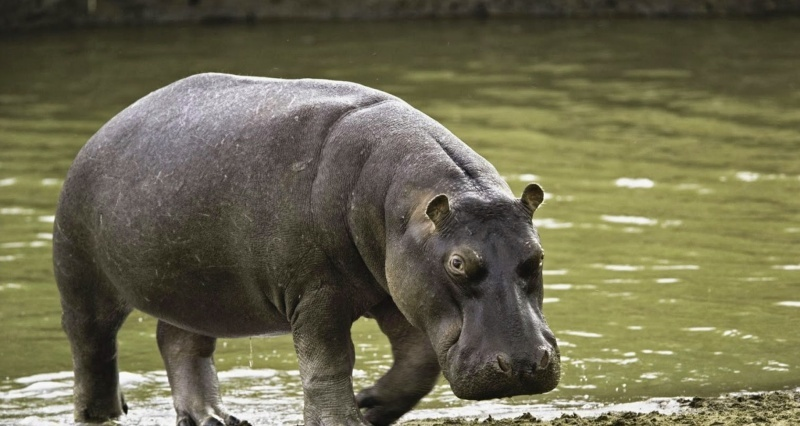hipopotamo: (50, 69, 564, 425)
